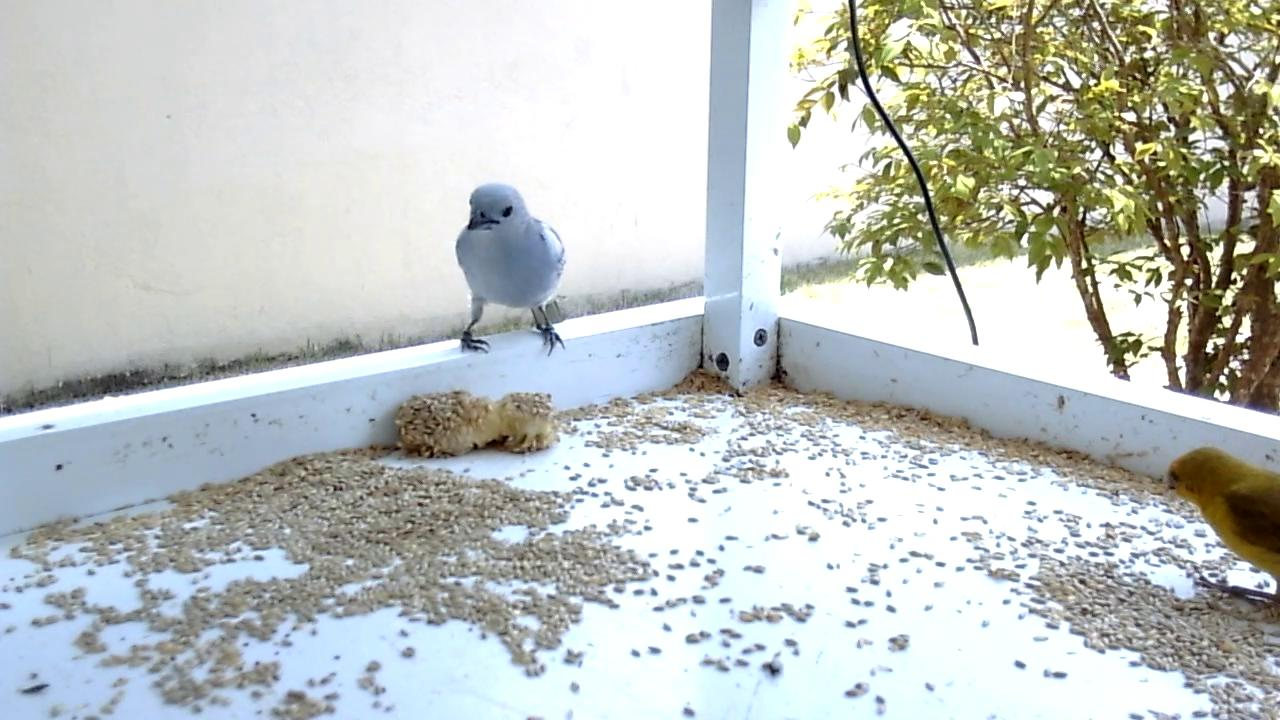canario_do_amazonas: (1161, 449, 1280, 603)
sanhaco_da_amazonia: (457, 181, 567, 358)
